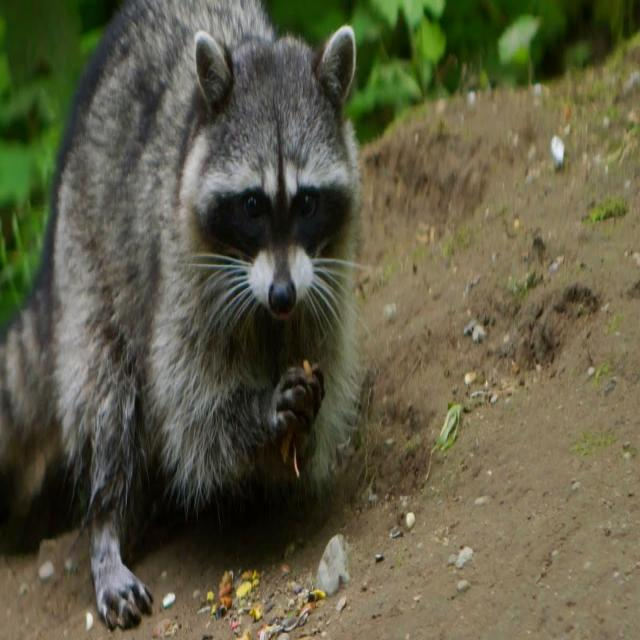raccoon: (0, 0, 362, 628)
